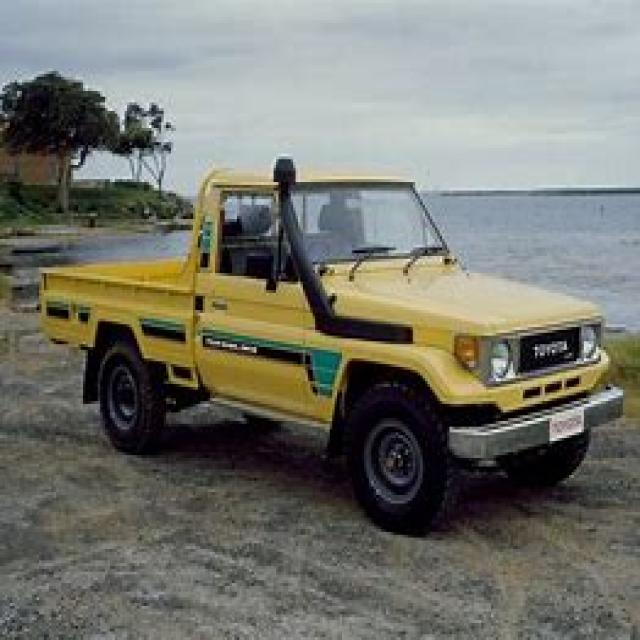light_vehicle: (37, 134, 618, 540)
